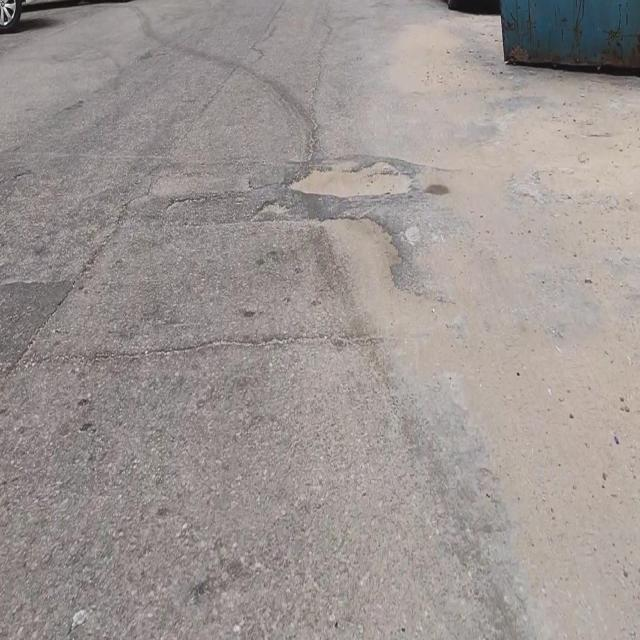Potholes: (286, 151, 413, 201)
